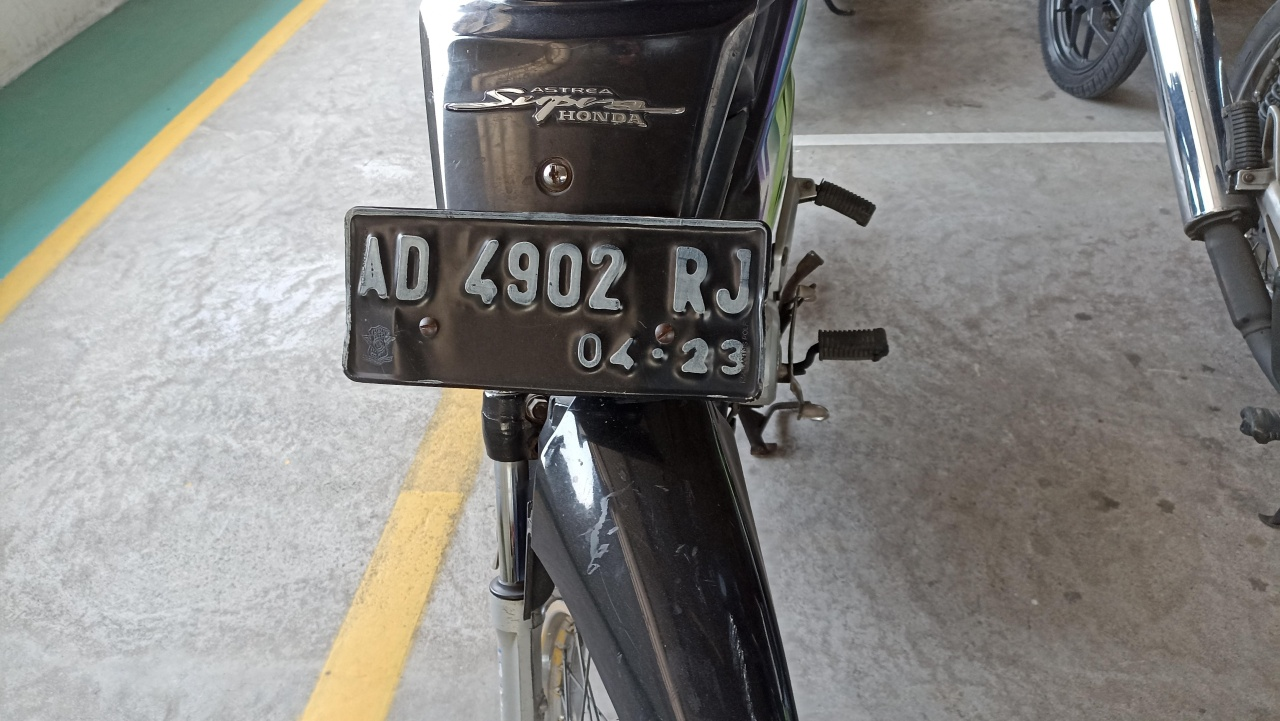plate: (346, 209, 769, 401)
